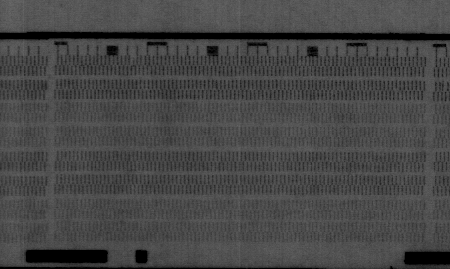Oblique printing: (127, 54, 140, 68), (438, 80, 450, 94), (391, 79, 402, 92)
